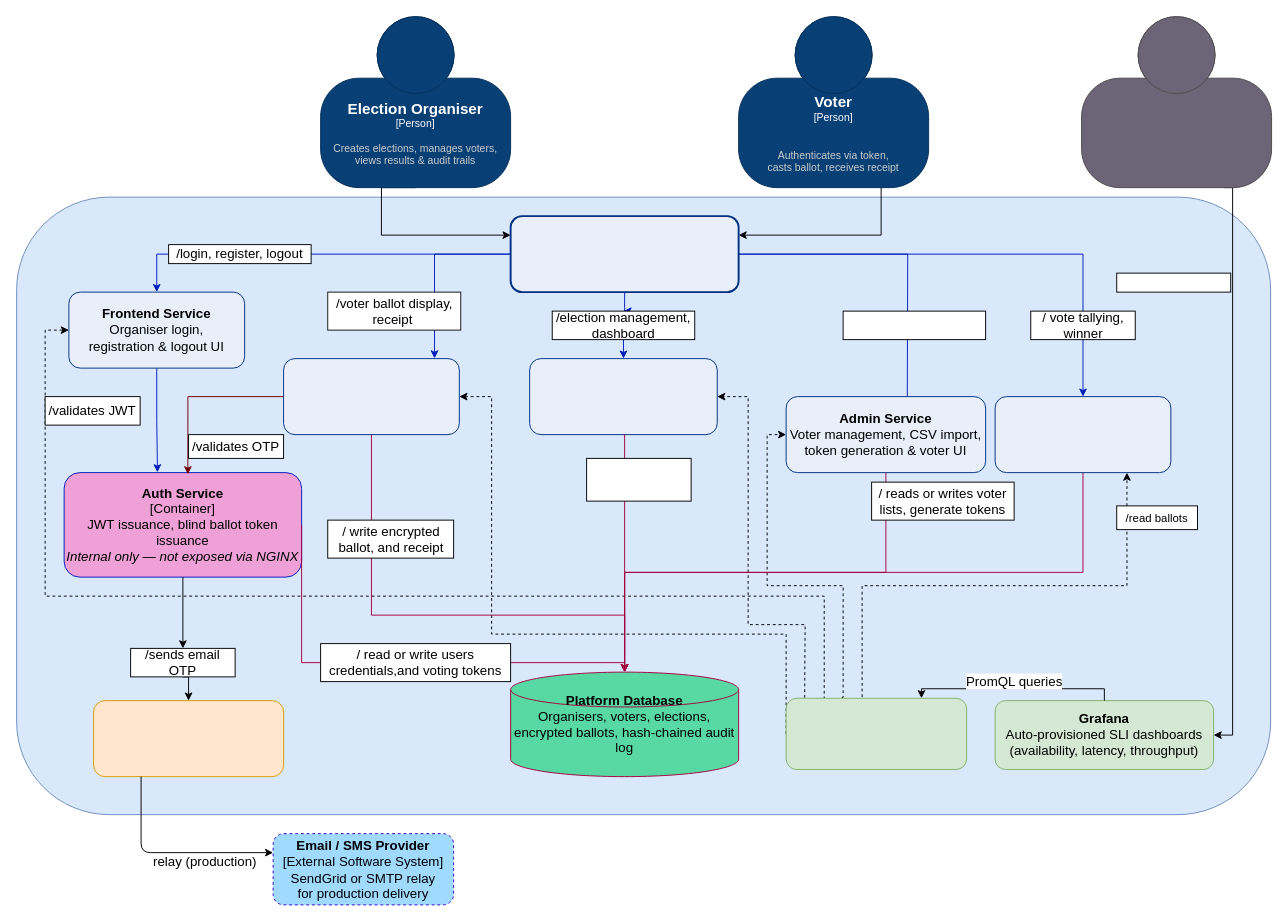
Some shapes in this 1288 by 922 pixel diagram are drawn without their labels. Each missing label, with the box of its shape:
/ create, update, close elections: (586, 457, 691, 501)
/views dashboards: (1116, 272, 1231, 292)
/voter management: (842, 310, 986, 340)
Election Service Election lifecycle management (draft → active → closed): (529, 358, 717, 435)
MailHog Captures & delivers voter invitation emails: (93, 700, 284, 777)
NGINX Ingress TLS termination, path-based routing to all application services: (509, 215, 739, 293)
Prometheus Scrapes /metrics every 15s from all services: (785, 697, 967, 770)
Results Service Vote tallying & winner calculation (read-only DB): (994, 396, 1171, 473)
System Administrator [Person] Monitors system health and security events: (1081, 16, 1272, 188)
Voting Service Token validation, ballot display, encrypted vote castin g: (283, 358, 459, 435)
